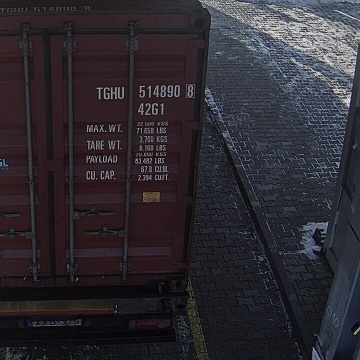serial_id: (95, 84, 193, 99)
